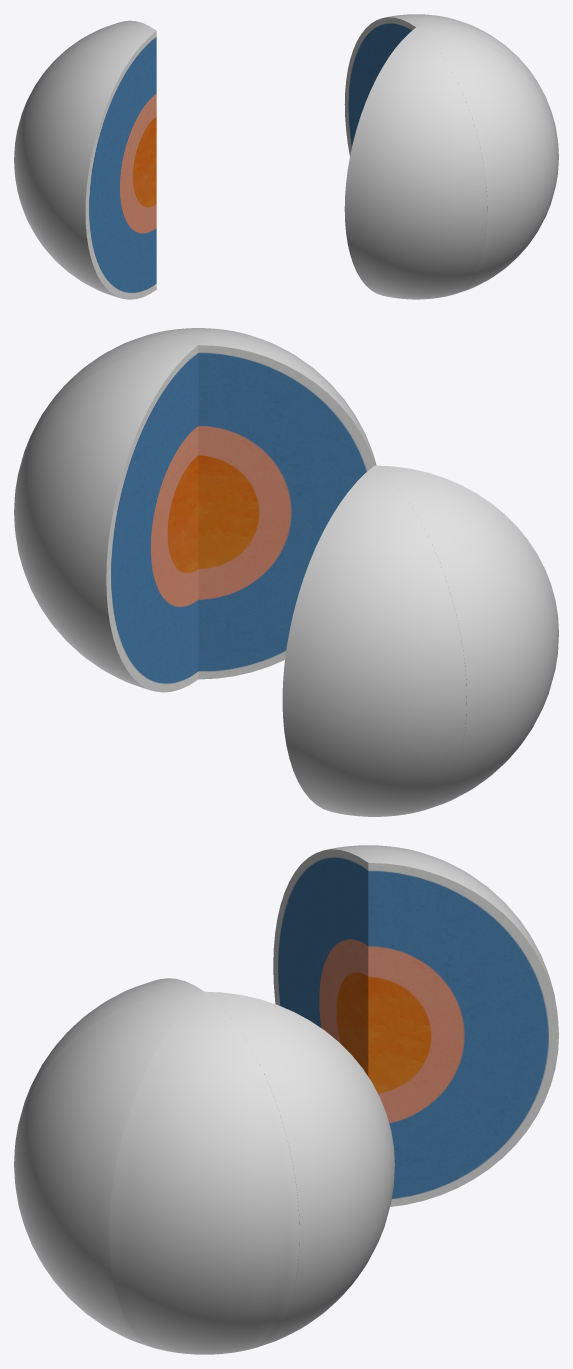
The model's file is SmellBook_r7c-wihtNormal-05.gltf.
The picture shows the model from 3 angles, top to bottom: view 1: azimuth 30°, elevation 25°; view 2: azimuth 150°, elevation 25°; view 3: azimuth 270°, elevation 25°; orthographic projection. The views are drawn at different scales.
Visible parts, largest first — view 1: Slice 3-Shiny Shell, Slice 4, Slice 2-Shiny Shell, Slice 2-Mat, Slice 6-Mat, Slice 5, Slice 1-Shiny Shell, Slice 6-Shiny Shell; view 2: Slice 1-Shiny Shell, Slice 3-Mat, Slice 6-Shiny Shell, Slice 2-Shiny Shell, Slice 6-Mat, Slice 5, Slice 3-Shiny Shell; view 3: Slice 5, Slice 1-Mat, Slice 4, Slice 6-Shiny Shell, Slice 2-Mat, Slice 3-Shiny Shell, Slice 1-Shiny Shell, Slice 2-Shiny Shell.
Part boxes in pixels (x1,y1,x2,y2): Slice 3-Shiny Shell: (344,27,487,299); Slice 4: (416,27,558,294); Slice 2-Shiny Shell: (14,30,156,298); Slice 2-Mat: (85,31,156,299); Slice 6-Mat: (344,17,415,155); Slice 5: (417,17,558,165); Slice 1-Shiny Shell: (15,20,155,144); Slice 6-Shiny Shell: (384,14,448,27); Slice 1-Shiny Shell: (282,465,466,816); Slice 3-Mat: (198,345,375,679); Slice 6-Shiny Shell: (14,345,197,690); Slice 2-Shiny Shell: (375,465,558,811); Slice 6-Mat: (106,345,198,692); Slice 5: (15,332,197,493); Slice 3-Shiny Shell: (199,332,376,465); Slice 5: (109,992,299,1354); Slice 1-Mat: (368,863,558,1206); Slice 4: (14,991,203,1348); Slice 6-Shiny Shell: (205,991,394,1348); Slice 2-Mat: (273,849,368,1076); Slice 3-Shiny Shell: (15,978,203,1145); Slice 1-Shiny Shell: (368,849,557,1014); Slice 2-Shiny Shell: (325,845,411,862).
Size of the model in its own units: 360 by 200 by 286.
Materials: 2 (1 with a texture image).
